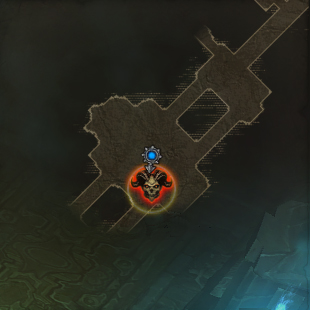Guardian: (129, 170, 174, 203)
